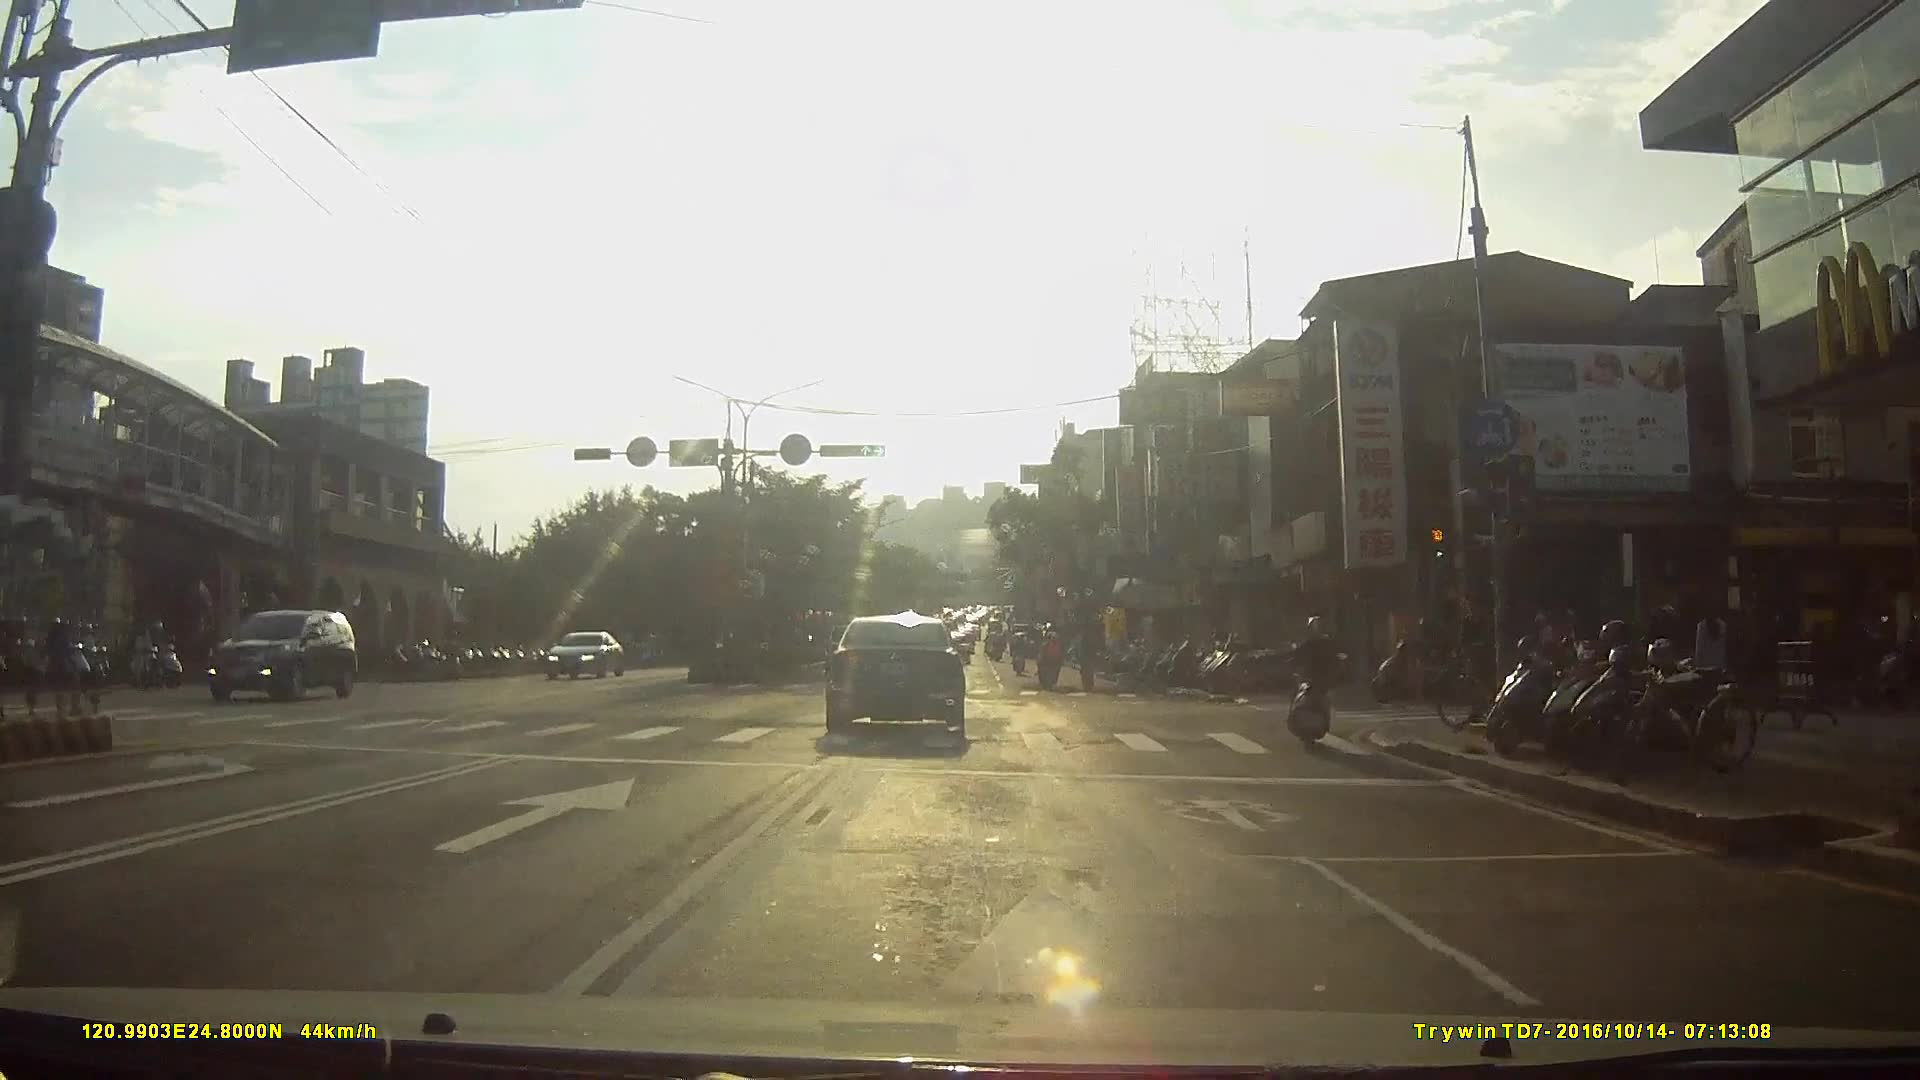pedestrian: (1691, 598, 1729, 705)
rider: (1287, 617, 1350, 747), (40, 620, 101, 691), (133, 618, 185, 691), (1037, 631, 1067, 694), (1008, 635, 1031, 680)
vehicle: (826, 609, 983, 748), (205, 608, 368, 705), (547, 632, 630, 682)
